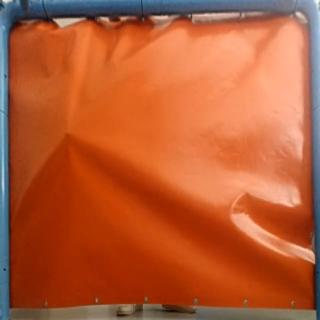Hit-hRxx: (61, 124, 76, 137)
